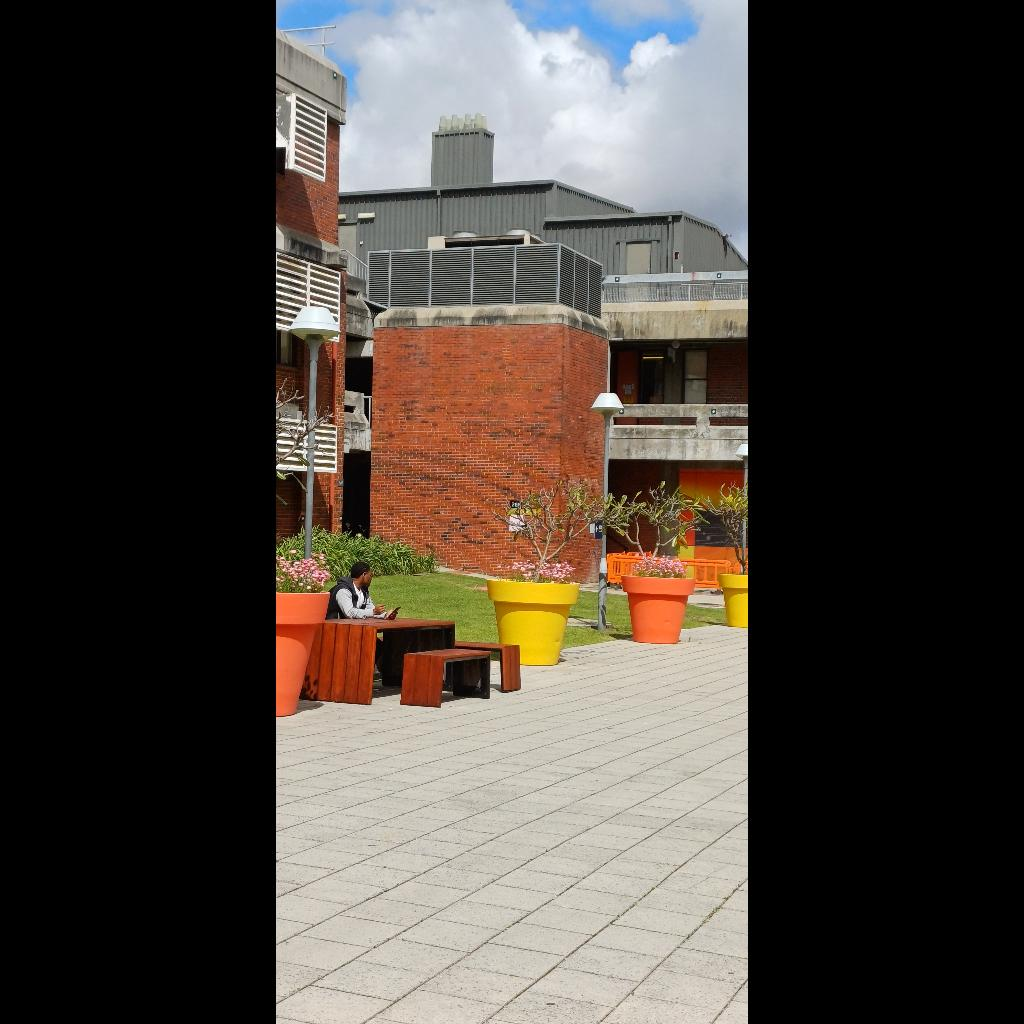BuildingCodes: (511, 500, 521, 508)
